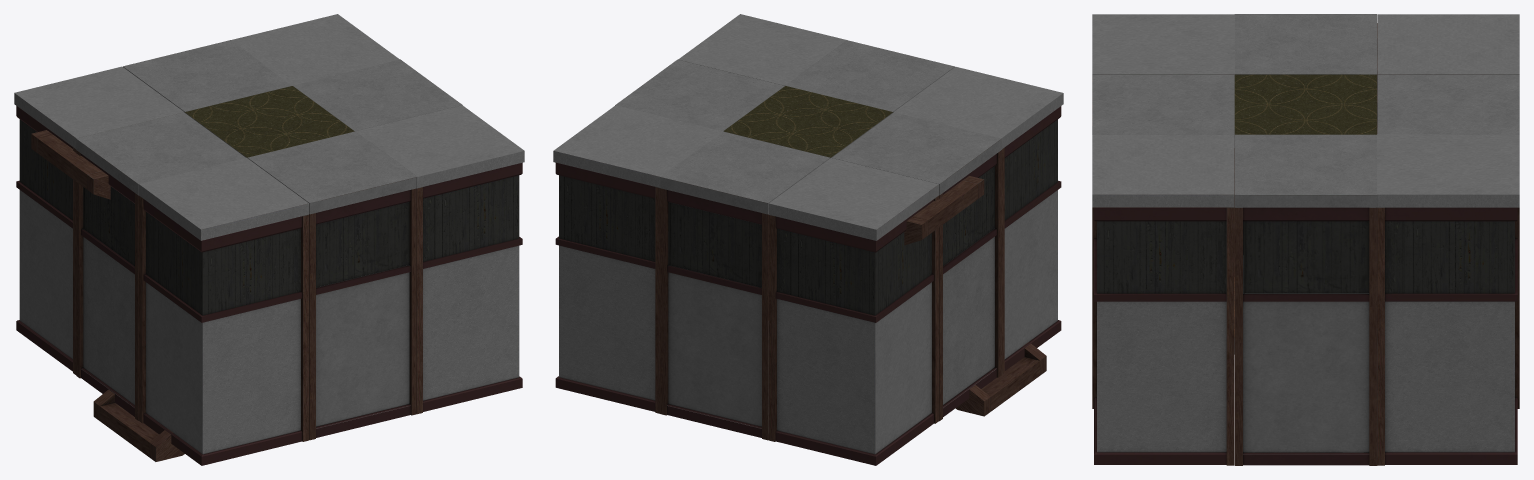
Rendered from mansion_stairroof.fbx.
3 renders of one model, left to right at view 1: azimuth 30°, elevation 25°; view 2: azimuth 150°, elevation 25°; view 3: azimuth 270°, elevation 25°, orthographic. The views are drawn at different scales.
Visible parts, largest first — view 1: Wal_Corner.035, Wall_02.018, Wal_Corner.033, Wall_02.001, Wal_Corner.034, FloorTile.120, Wall_02.004, Wall_02.019, Wal_Corner.032, Ladder.003; view 2: Wal_Corner.034, Wall_02.004, Wal_Corner.032, Wall_02.001, Wal_Corner.035, FloorTile.120, Wall_02.018, Wall_02.019, Wal_Corner.033, Ladder.003; view 3: Wall_02.019, Wal_Corner.032, Wal_Corner.033, Wal_Corner.035, Wal_Corner.034, FloorTile.120, Wall_02.001, Wall_02.018, Wall_02.004.
Boxes of the visible parts, x1,y1,x2,y2 form: Wal_Corner.035: (139, 157, 308, 465); Wall_02.018: (247, 131, 417, 440); Wal_Corner.033: (356, 105, 524, 414); Wall_02.001: (76, 112, 245, 420); Wal_Corner.034: (14, 66, 183, 374); FloorTile.120: (184, 86, 354, 157); Wall_02.004: (123, 40, 291, 112); Wall_02.019: (293, 59, 462, 131); Wal_Corner.032: (231, 14, 399, 85); Ladder.003: (31, 130, 184, 461); Wal_Corner.034: (768, 158, 938, 465); Wall_02.004: (660, 131, 830, 440); Wal_Corner.032: (553, 105, 723, 413); Wall_02.001: (832, 112, 1001, 421); Wal_Corner.035: (893, 66, 1063, 374); FloorTile.120: (723, 86, 893, 157); Wall_02.018: (785, 40, 954, 111); Wall_02.019: (615, 59, 784, 131); Wal_Corner.033: (678, 14, 847, 85); Ladder.003: (904, 176, 1046, 416); Wall_02.019: (1235, 134, 1377, 465); Wal_Corner.032: (1377, 134, 1519, 465); Wal_Corner.033: (1092, 135, 1234, 465); Wal_Corner.035: (1092, 14, 1234, 261); Wal_Corner.034: (1377, 14, 1519, 74); FloorTile.120: (1234, 74, 1376, 134); Wall_02.001: (1235, 14, 1376, 74); Wall_02.018: (1092, 75, 1234, 147); Wall_02.004: (1377, 75, 1519, 134).
Size of the model in its own units: 627 by 446 by 600.
